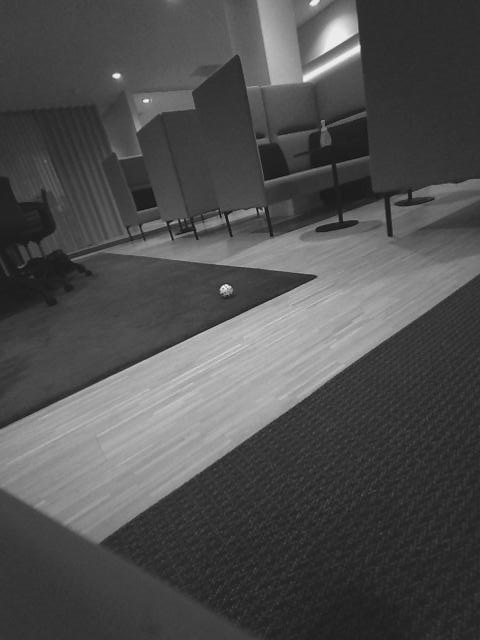dogtoy: (214, 281, 238, 300)
